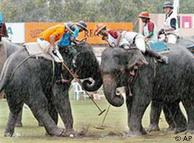elephant: (1, 37, 103, 139), (96, 40, 194, 136)
